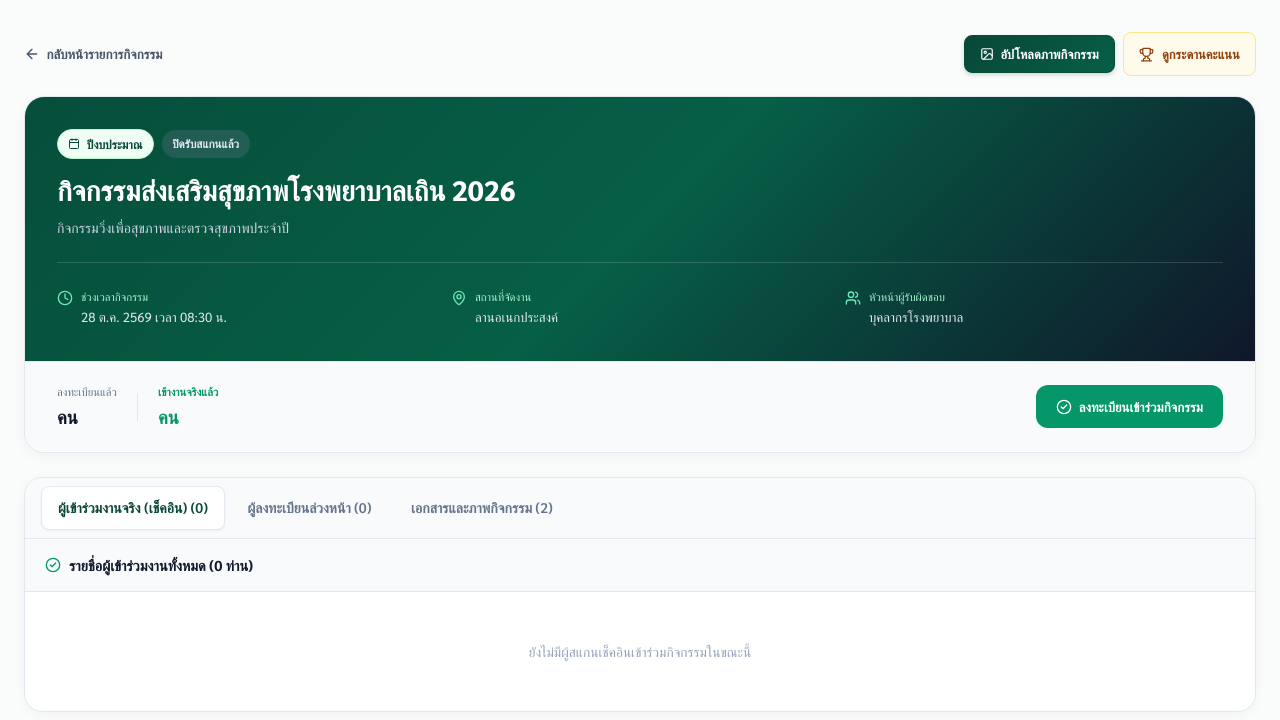
Test: EventDetailClient - Member Photo Upload & Permissions › allows regular member to see "อัปโหลดภาพกิจกรรม" button and opens photo upload modal
Switch to attachments tab
Click the button "เอกสารและภาพกิจกรรม (2)".
click(482, 508)  # box [394,486,570,530]
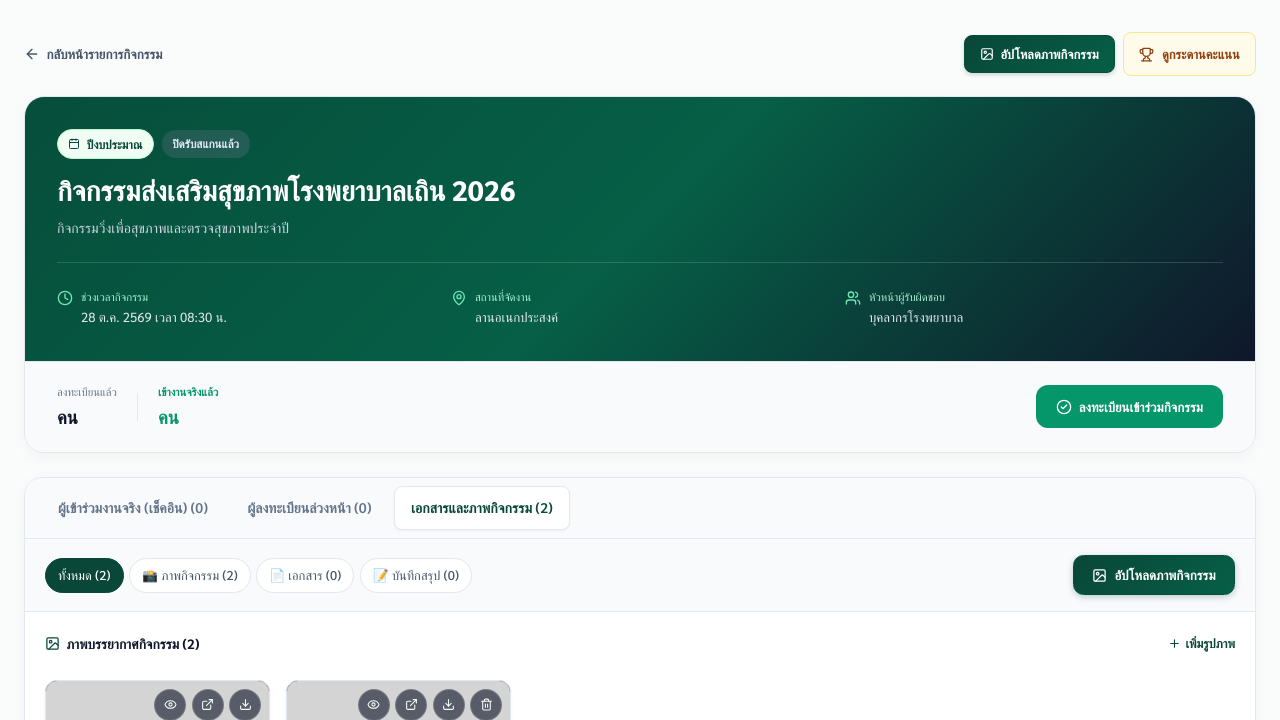
Click to open upload modal
Click the button "อัปโหลดภาพกิจกรรม" next to "ดูกระดานคะแนน".
click(1039, 54)  # box [964,35,1115,73]
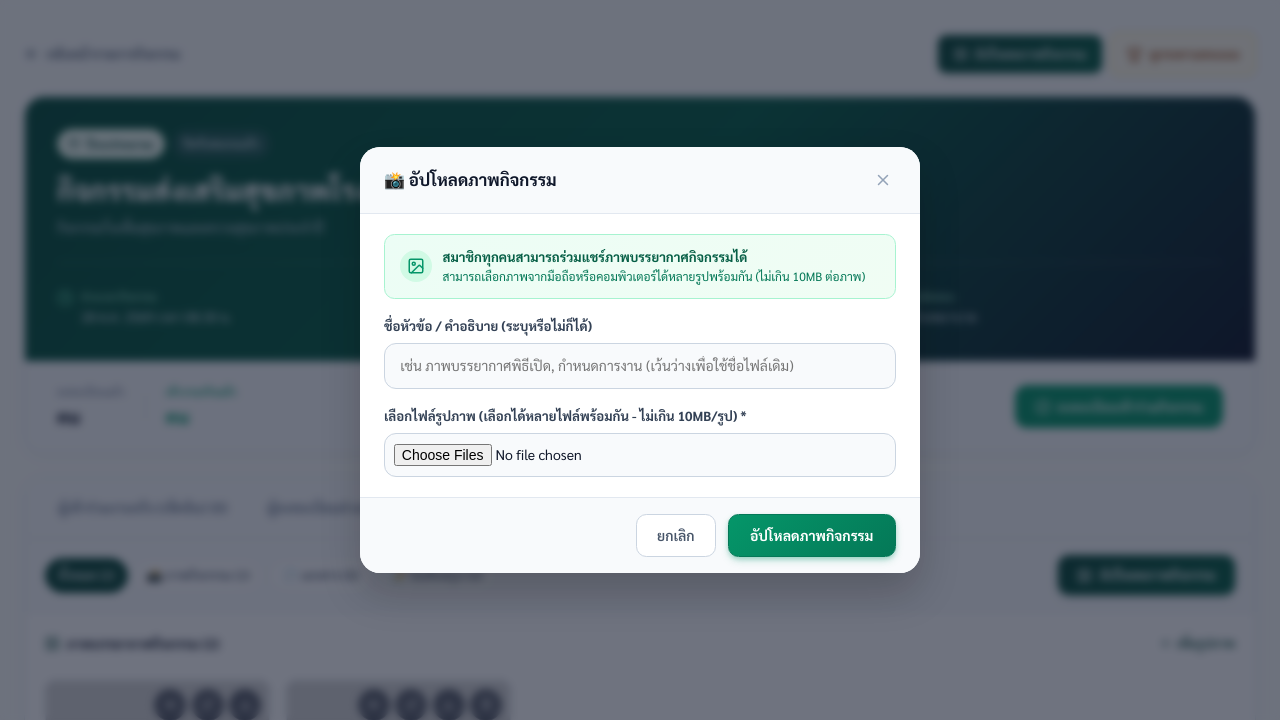
Expected: the number of buttons "อัปโหลดภาพกิจกรรม" is 3, [938,35,1102,73]; [1058,555,1235,595]; [728,514,896,557]
Result: the heading "📸 อัปโหลดภาพกิจกรรม" is shown at [384,168,557,191]
Result: the text "สมาชิกทุกคนสามารถร่วมแชร์ภาพบรรยากาศกิจกรรมได้" is shown at [443,248,748,265]
